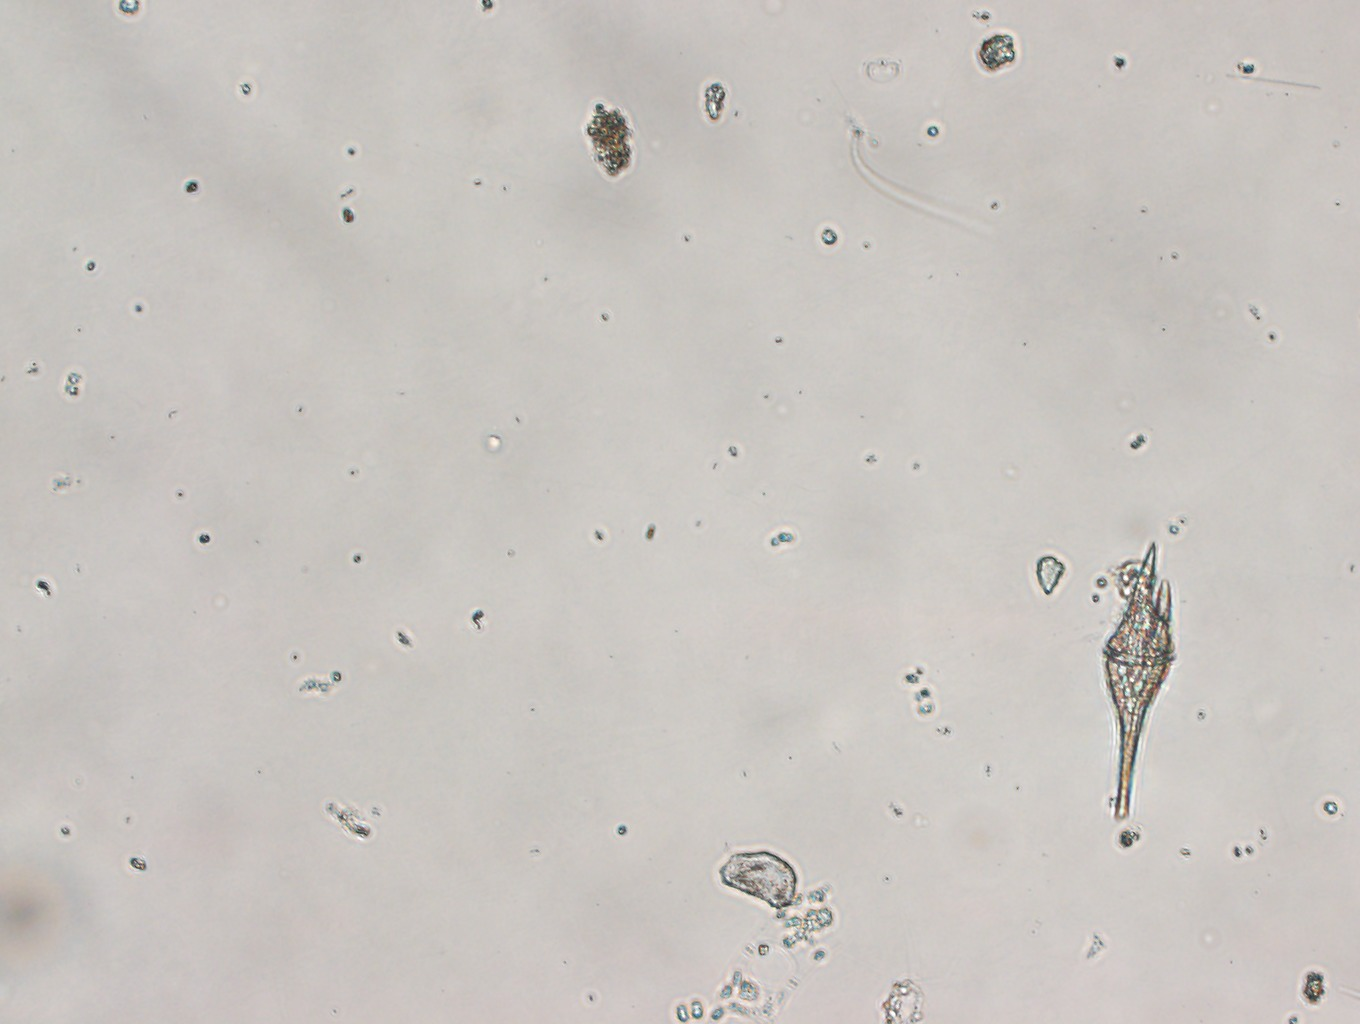ceratium furca: (1102, 543, 1177, 817)
